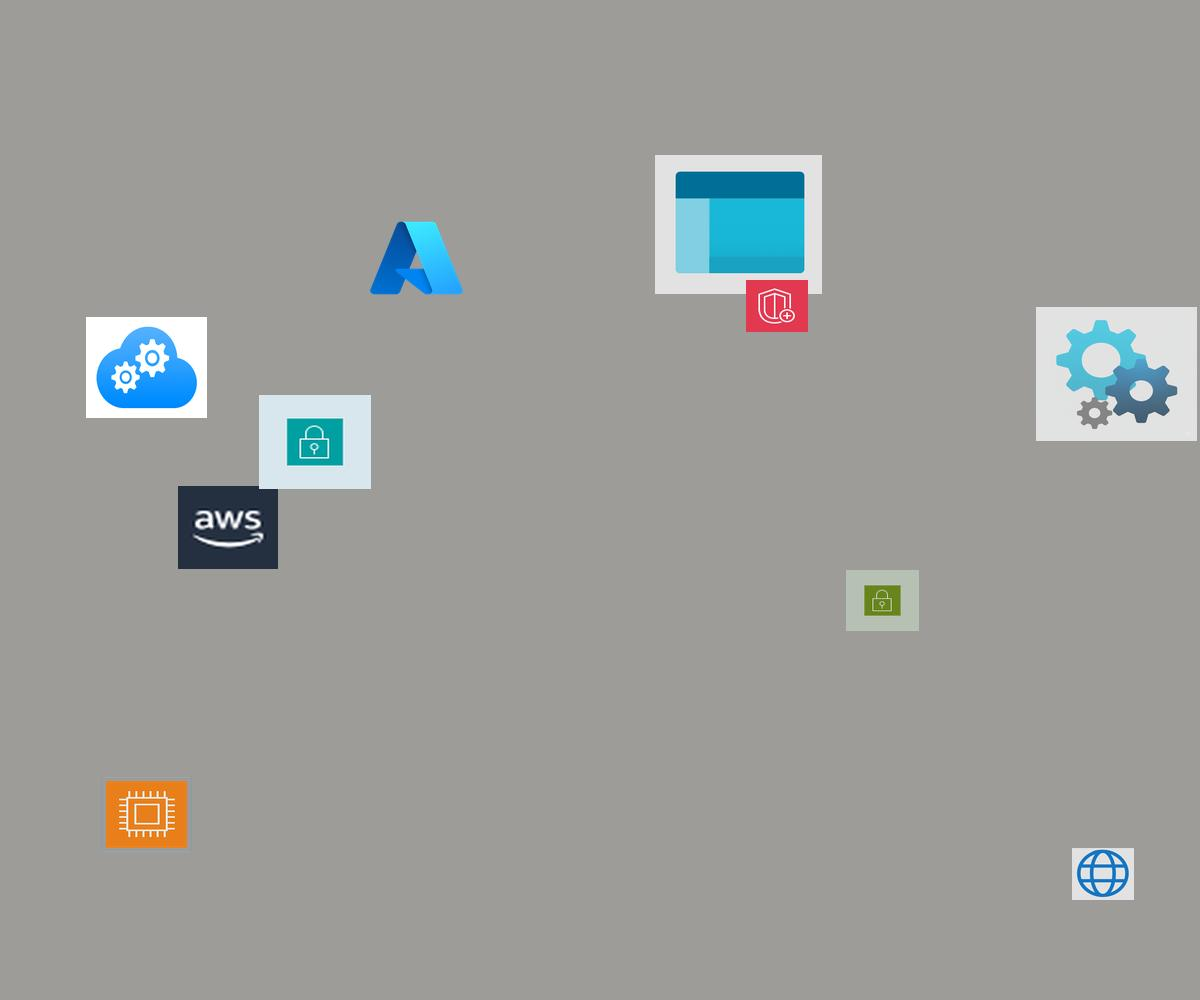AWS-Category_Compute: (101, 777, 192, 852)
AWS-Cloud-logo: (178, 486, 278, 569)
AWS-Private-subnet: (259, 395, 371, 489)
AWS-Public-subnet: (846, 570, 919, 631)
AWS-Shield: (746, 280, 808, 332)
Azure_api: (1036, 307, 1197, 441)
Azure_cloud_services: (86, 317, 207, 418)
Azure_http: (1072, 848, 1134, 900)
Azure_management-portal: (655, 155, 822, 294)
Azure_services: (366, 216, 467, 300)
